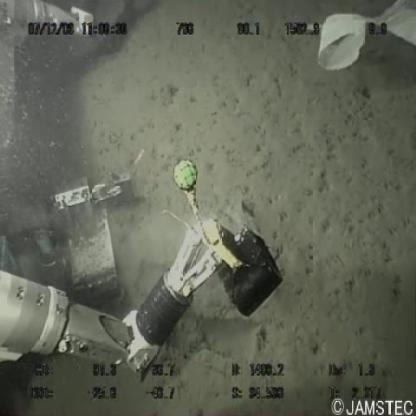Rov: (1, 1, 288, 388)
Rác: (310, 1, 416, 76)
